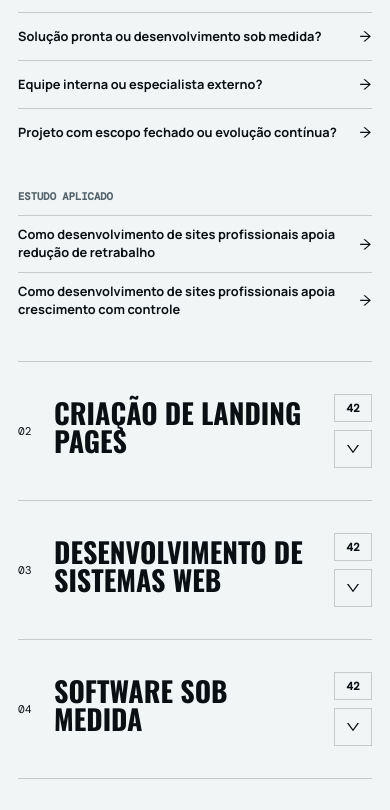
Test: Mapa do Site e SEO › expande e recolhe clusters pela navegação mobile
The width and height of the screenshot is (390, 810).
(page scrolled)
Click the button named "abrir criação de landing pages". click: (353,449)
box: [334,430,372,468]
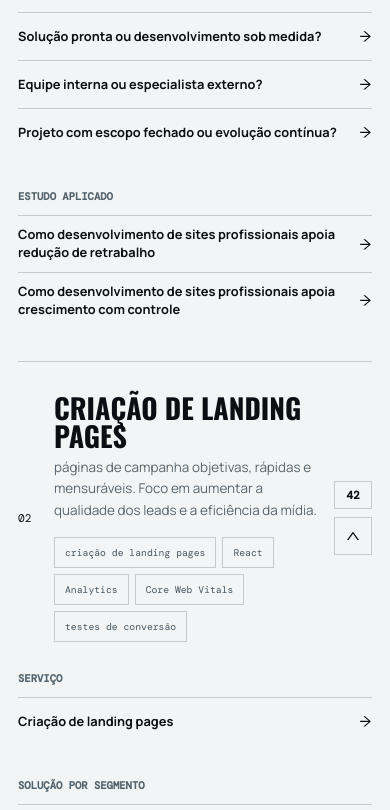
Check: the button named "abrir criação de landing pages" is expanded, box [334,517,372,555]
